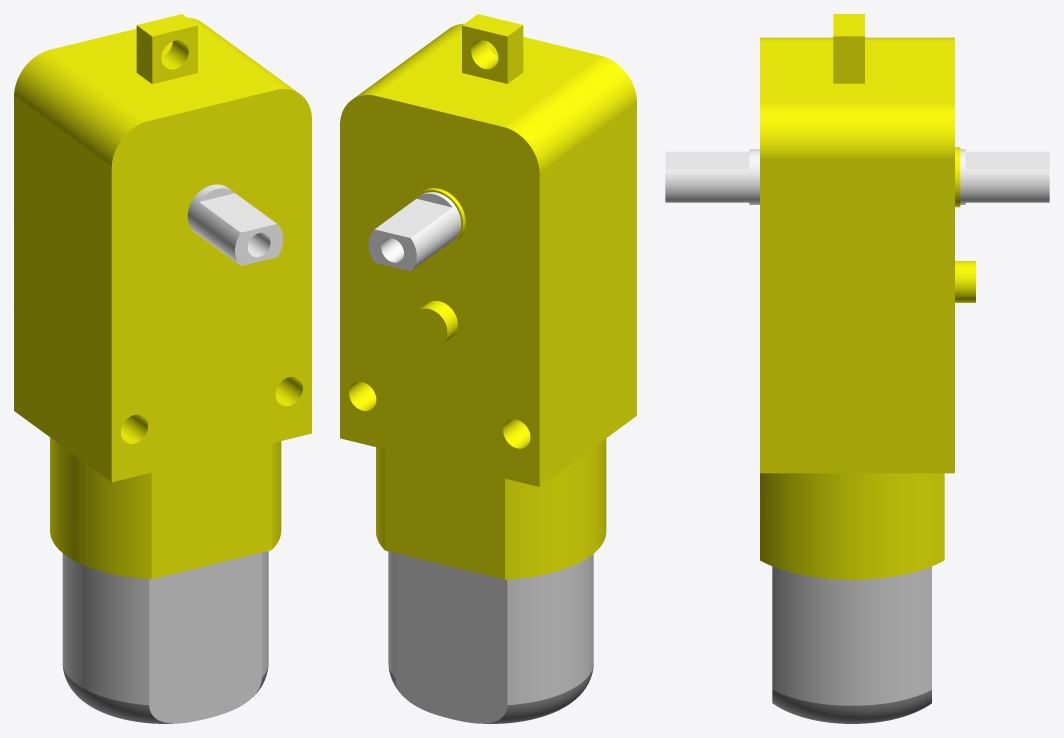
The model's file is Motor Carrinho.gltf.
The picture shows the model from 3 angles, left to right: view 1: azimuth 30°, elevation 25°; view 2: azimuth 150°, elevation 25°; view 3: azimuth 270°, elevation 25°; orthographic projection.
Visible parts, largest first — view 1: 6V 250rpm DC motor; view 2: 6V 250rpm DC motor; view 3: 6V 250rpm DC motor.
Part boxes in pixels (x1,y1,x2,y2): 6V 250rpm DC motor: (14,14,311,723); 6V 250rpm DC motor: (340,14,636,723); 6V 250rpm DC motor: (665,14,1049,723).
Size of the model in its own units: 0.022 by 0.07 by 0.0366.
